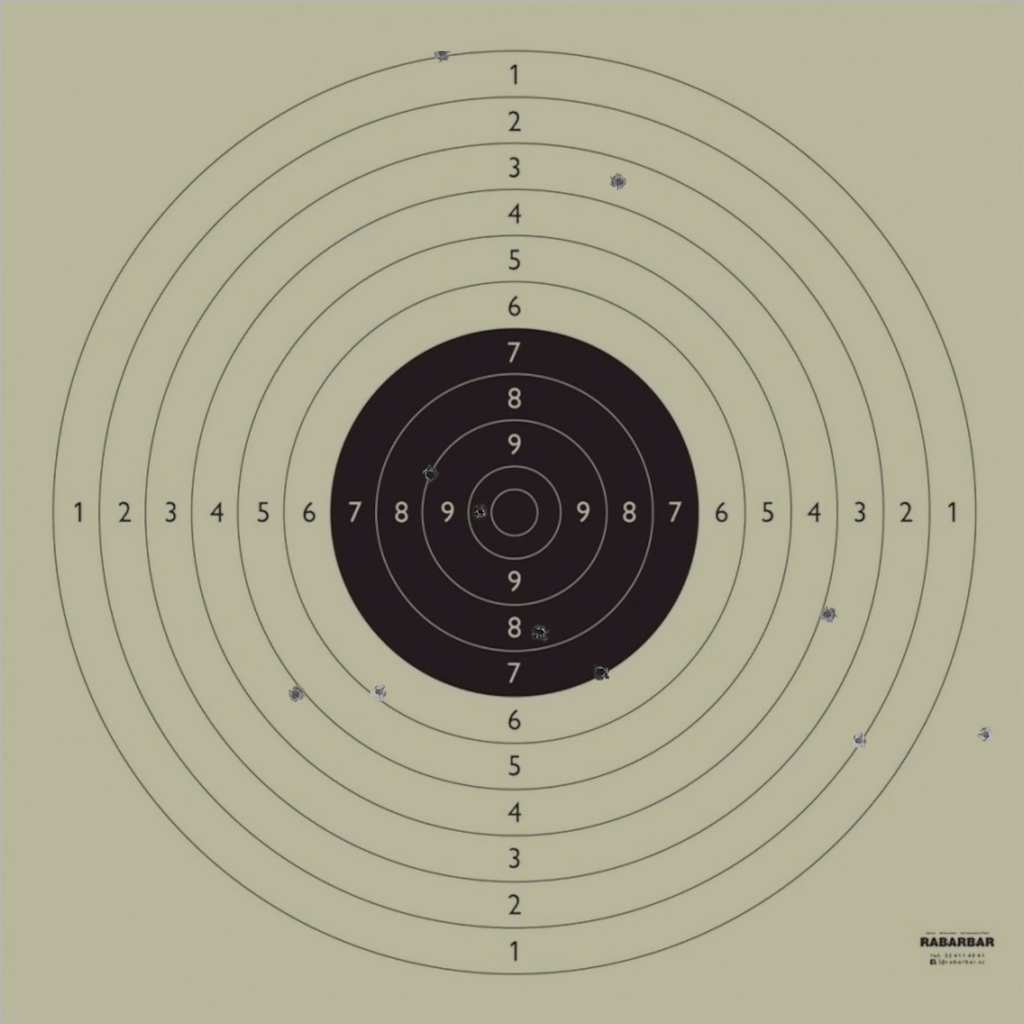0 punktow: (977, 726, 995, 744)
1 punkt: (433, 44, 451, 62)
10 punktow: (472, 503, 490, 521)
2 punkty: (849, 731, 868, 750)
3 punkty: (610, 173, 628, 191)
4 punkty: (819, 605, 837, 624)
5 punktow: (287, 685, 305, 704)
6 punktow: (370, 683, 388, 701)
7 punktow: (592, 663, 610, 681)
8 punktow: (531, 623, 550, 642)
9 punktow: (421, 465, 439, 484)
